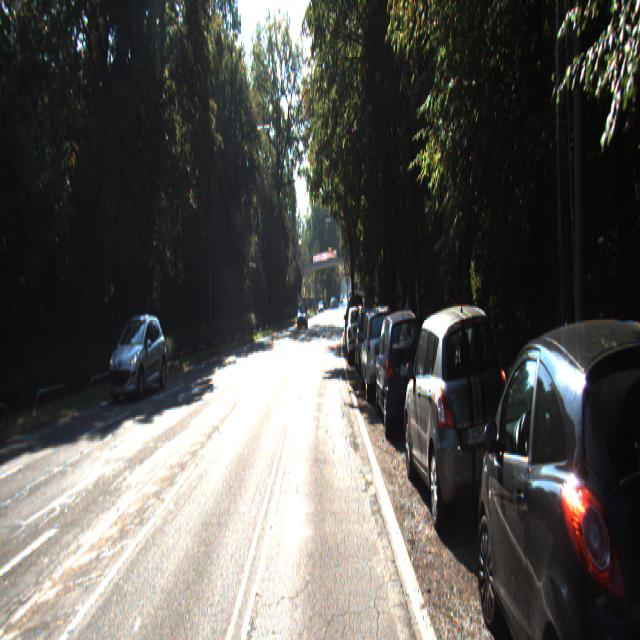Car: (471, 311, 640, 638), (402, 305, 519, 542), (374, 302, 428, 434), (107, 312, 168, 401), (359, 305, 400, 403), (346, 303, 367, 361), (297, 298, 308, 324)
DontCare: (318, 293, 337, 315)
